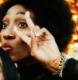front: (12, 10, 61, 65)
